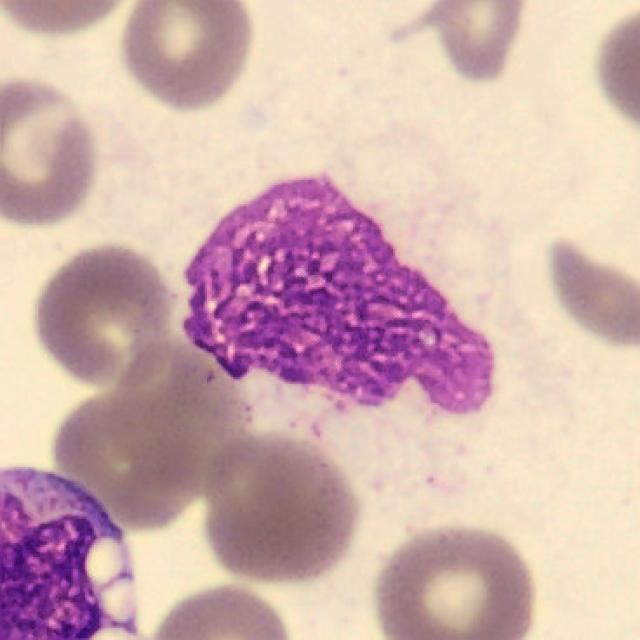Restos celulares: (183, 175, 492, 417)
